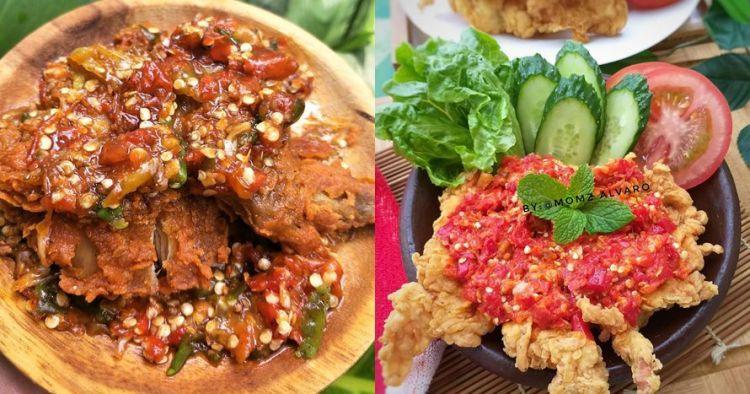ayam_geprek: (18, 40, 360, 365), (424, 162, 699, 391)
